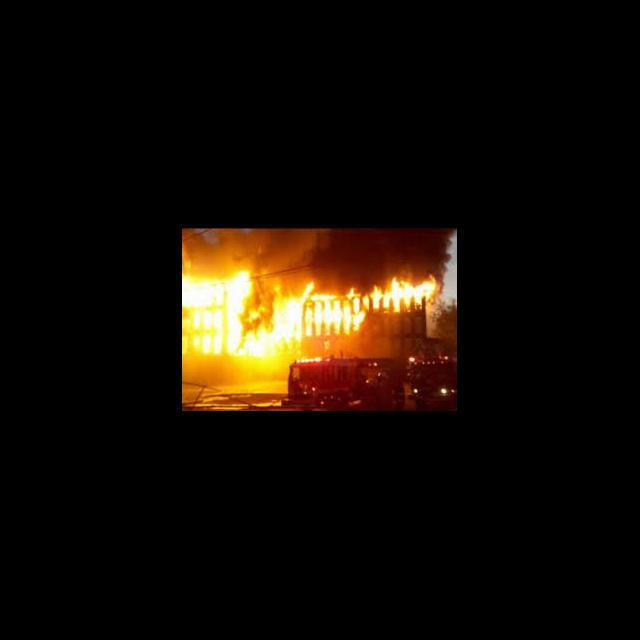Fire: (184, 248, 317, 360), (318, 274, 439, 348)
Smoke: (319, 228, 456, 266)
